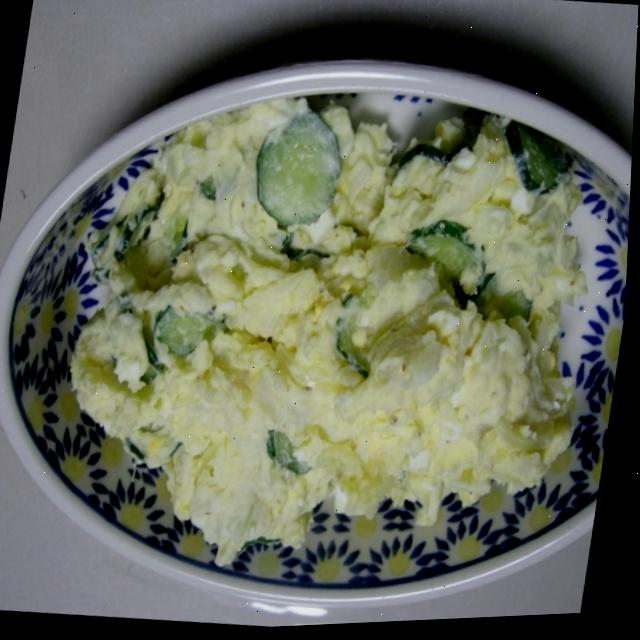蔬菜料理: (0, 16, 639, 640)
